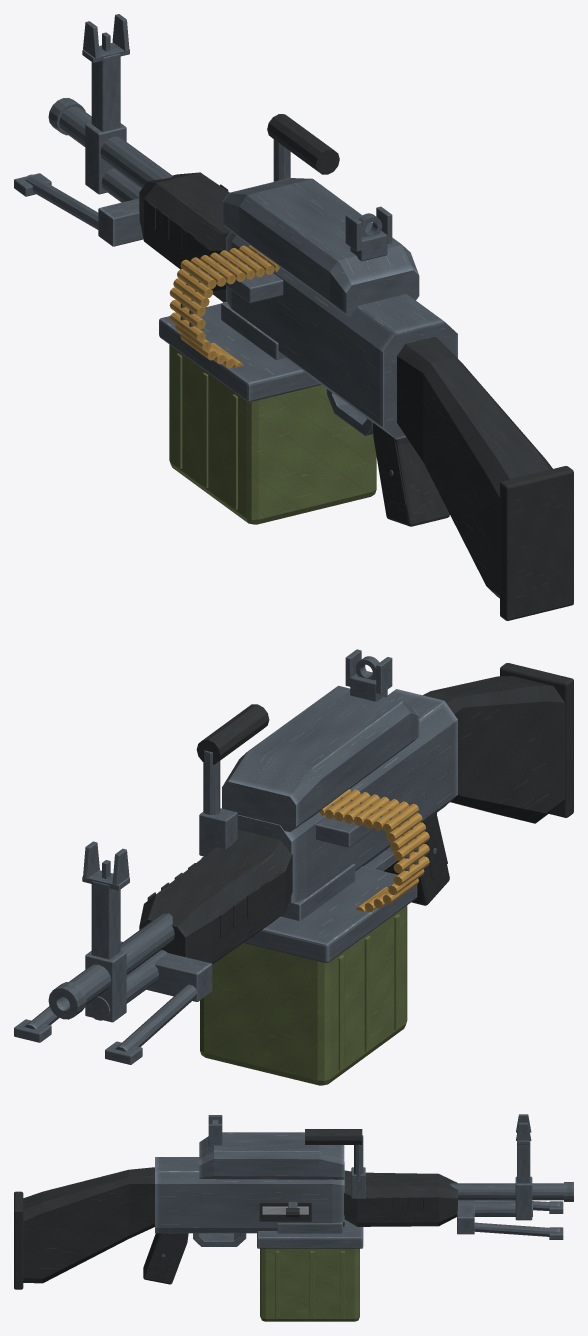
The picture shows the model from 3 angles, top to bottom: view 1: azimuth 30°, elevation 25°; view 2: azimuth 150°, elevation 25°; view 3: azimuth 270°, elevation 25°; orthographic projection. The views are drawn at different scales.
Parts seen in each view (by area): view 1: m249_Body, m249_Magazine, m249_FeedCover, m249_FeedBelt; view 2: m249_Body, m249_Magazine, m249_FeedCover, m249_FeedBelt; view 3: m249_Body, m249_Magazine, m249_FeedCover, m249_Bolt.
Boxes of the visible parts, bbox=[...] form: m249_Body: bbox=[14, 14, 573, 620]; m249_Magazine: bbox=[159, 303, 376, 524]; m249_FeedCover: bbox=[222, 178, 419, 317]; m249_FeedBelt: bbox=[169, 245, 279, 368]; m249_Body: bbox=[14, 663, 573, 1064]; m249_Magazine: bbox=[200, 866, 417, 1085]; m249_FeedCover: bbox=[222, 649, 419, 832]; m249_FeedBelt: bbox=[319, 789, 429, 912]; m249_Body: bbox=[14, 1114, 573, 1289]; m249_Magazine: bbox=[257, 1220, 363, 1321]; m249_FeedCover: bbox=[199, 1115, 344, 1179]; m249_Bolt: bbox=[262, 1206, 308, 1214].
Bounding box in the file's own units: 0.332 × 0.547 × 1.46.
5 materials, 5 textured.
